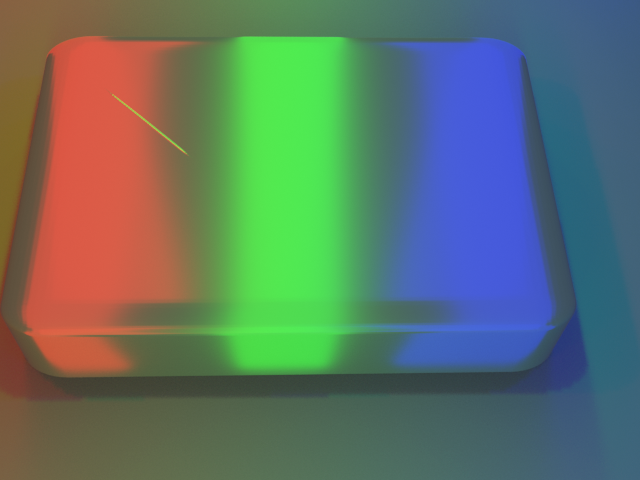scratch: (109, 11, 320, 222)
